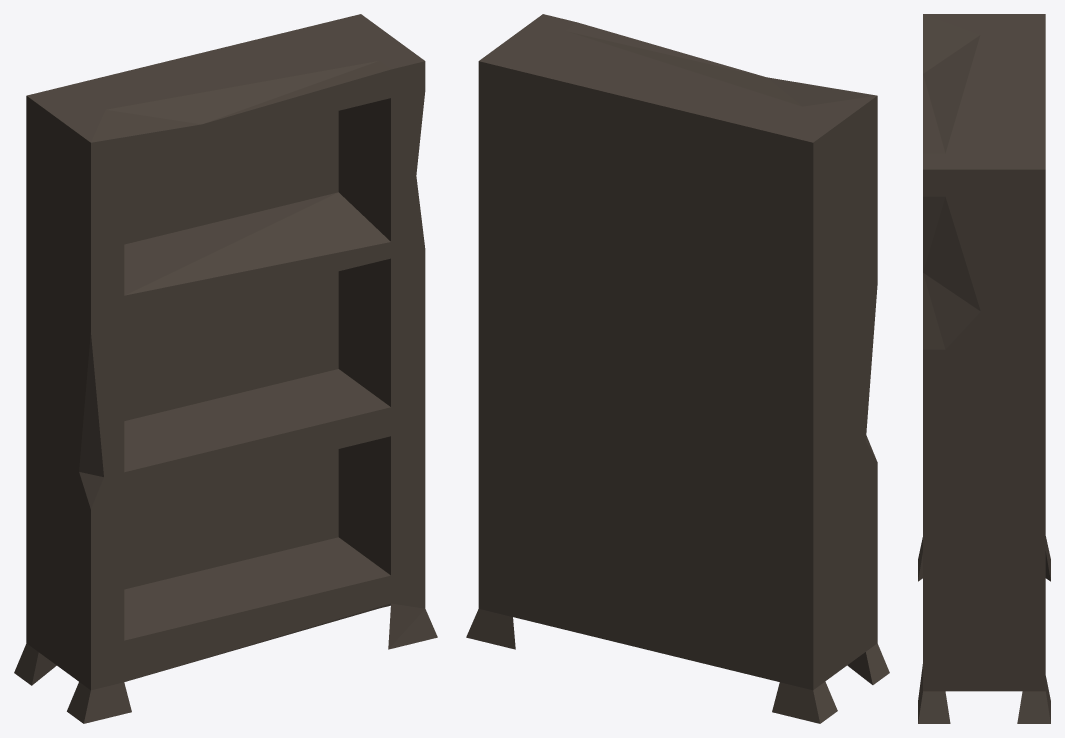
The model's file is Shelf_01.fbx.
3 views of the same model, side by side, from view 1: azimuth 30°, elevation 25°; view 2: azimuth 150°, elevation 25°; view 3: azimuth 270°, elevation 25° (orthographic). The views are drawn at different scales.
Parts seen in each view (by area): view 1: Shelf_01; view 2: Shelf_01; view 3: Shelf_01.
Part boxes in pixels (x1,y1,x2,y2): Shelf_01: (14, 14, 437, 723); Shelf_01: (466, 14, 889, 723); Shelf_01: (918, 14, 1050, 723).
Size of the model in its own units: 424 by 659 by 144.
